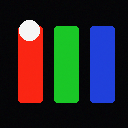2 circle: (19, 20, 39, 40)
